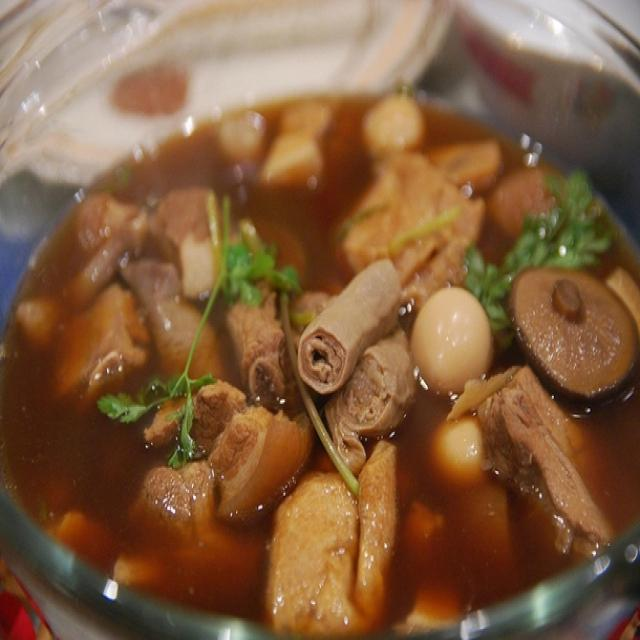汤锅炖物: (13, 50, 630, 612)
